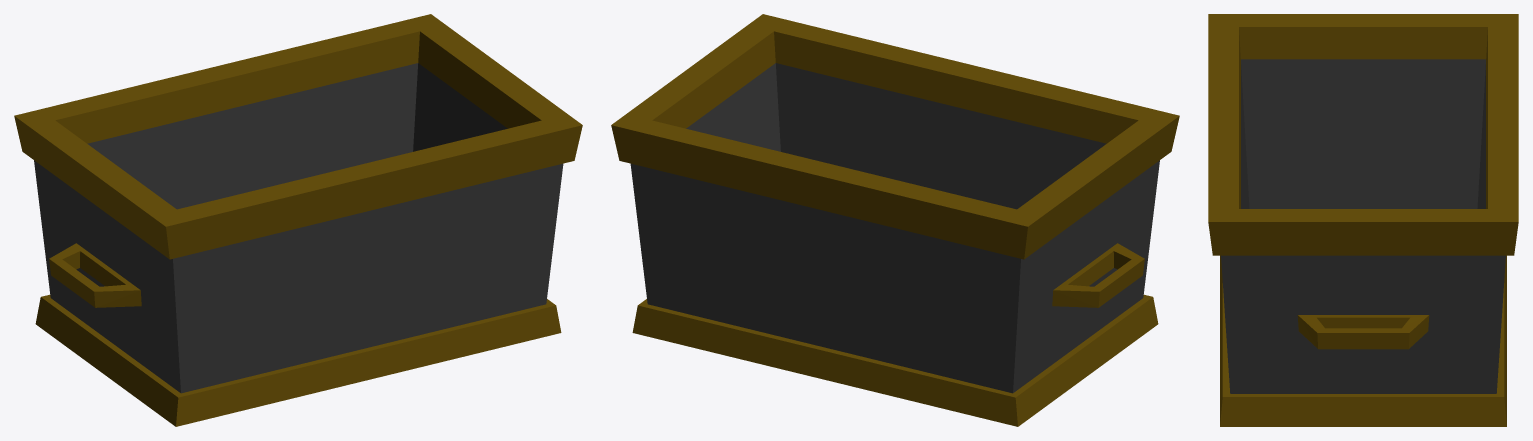
File: Cave_Lair_Metal_Chest_Damaged_Open_Junk_01.fbx
3 views of the same model, side by side, from view 1: azimuth 30°, elevation 25°; view 2: azimuth 150°, elevation 25°; view 3: azimuth 270°, elevation 25° (orthographic). The views are drawn at different scales.
Parts seen in each view (by area): view 1: Cave_Lair_Metal_Chest_Damaged_Open_Junk_01; view 2: Cave_Lair_Metal_Chest_Damaged_Open_Junk_01; view 3: Cave_Lair_Metal_Chest_Damaged_Open_Junk_01.
Part boxes in pixels (box(x1,y1,x2,y2)): Cave_Lair_Metal_Chest_Damaged_Open_Junk_01: box(14, 14, 582, 426); Cave_Lair_Metal_Chest_Damaged_Open_Junk_01: box(611, 14, 1179, 426); Cave_Lair_Metal_Chest_Damaged_Open_Junk_01: box(1208, 14, 1518, 426).
Bounding box in the file's own units: 1.09 × 0.4773 × 0.631.
